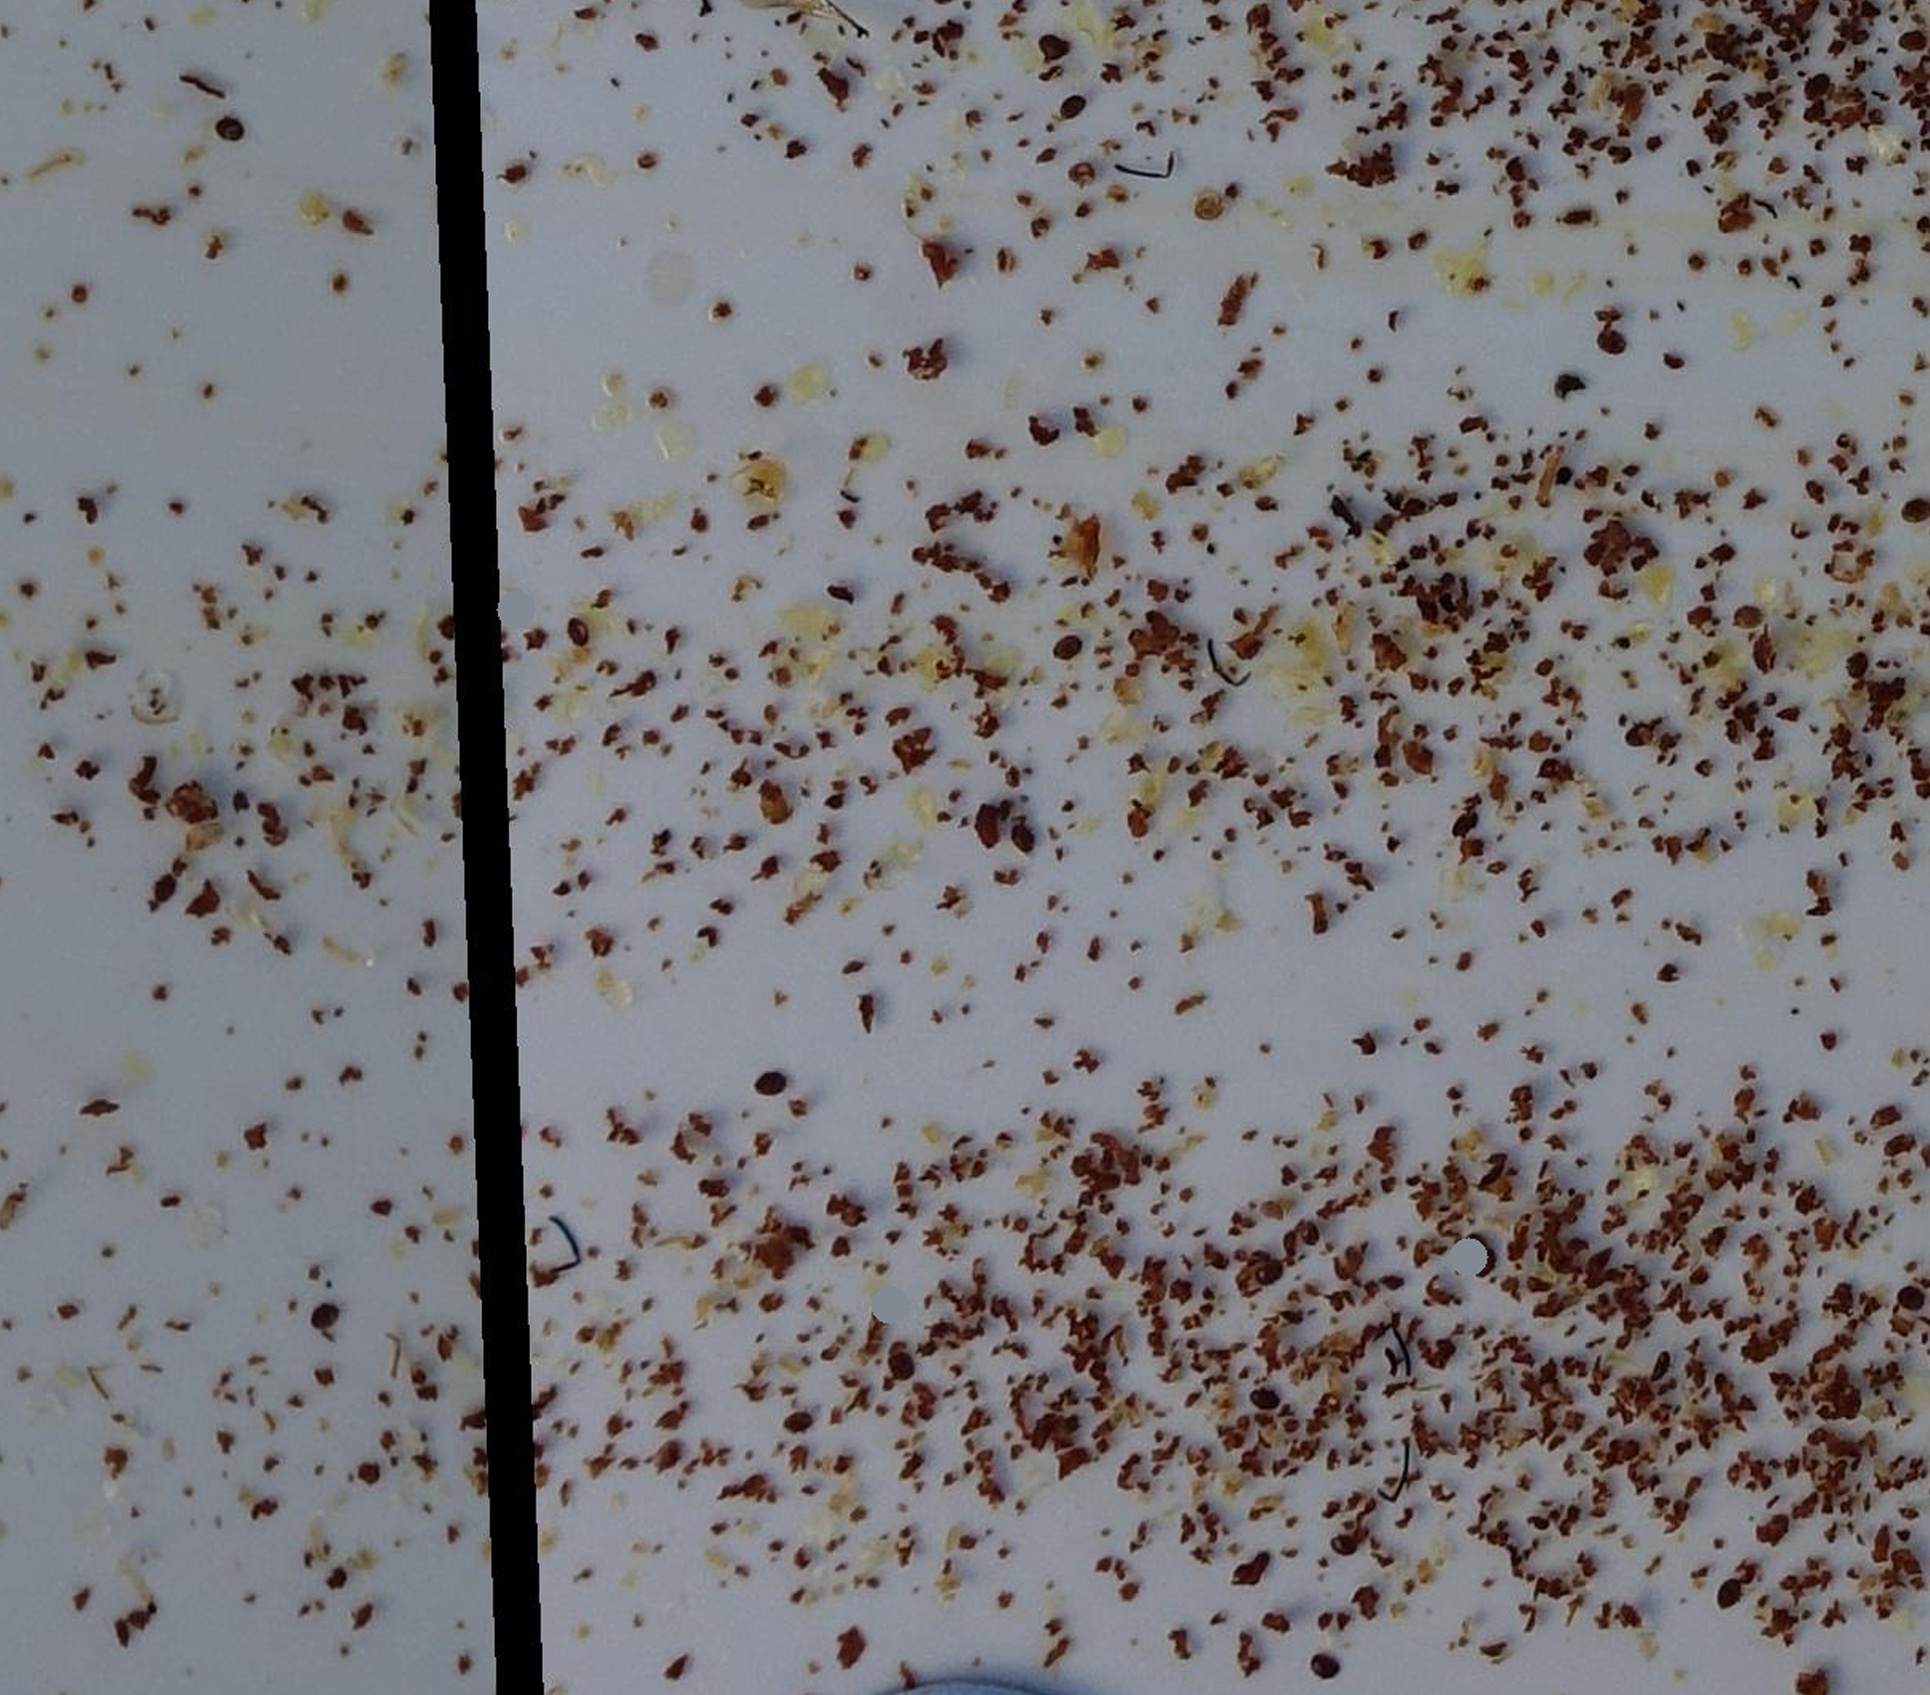Varroa: (758, 1067, 788, 1098), (149, 870, 177, 899), (1718, 1575, 1745, 1603), (1293, 1227, 1319, 1255), (1452, 807, 1479, 835), (1738, 607, 1764, 633), (1257, 1250, 1282, 1278), (1621, 724, 1648, 748), (886, 1336, 914, 1359), (1805, 77, 1830, 102), (1598, 335, 1623, 359), (1902, 30, 1927, 54), (1469, 1226, 1493, 1250), (218, 121, 241, 146), (208, 102, 231, 126), (1055, 632, 1078, 655), (1896, 1285, 1919, 1308), (561, 620, 584, 643), (1011, 830, 1034, 853), (890, 1359, 912, 1382), (783, 1405, 806, 1428), (313, 1301, 335, 1324), (1848, 656, 1869, 679), (1334, 1529, 1356, 1552), (1047, 33, 1068, 56), (1311, 1657, 1333, 1679), (1063, 92, 1085, 113), (1259, 1390, 1278, 1409)
